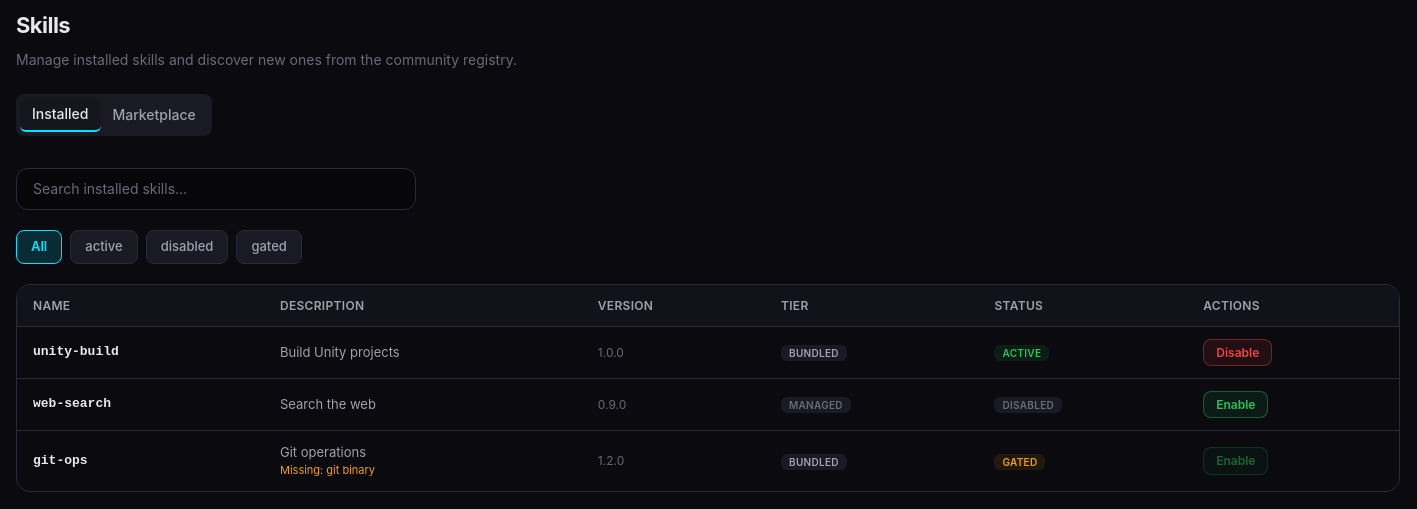
SkillsPage › filters skills by status pill
Click the button "active".
click(104, 247)  # box x1=70 y1=230 x2=138 y2=264
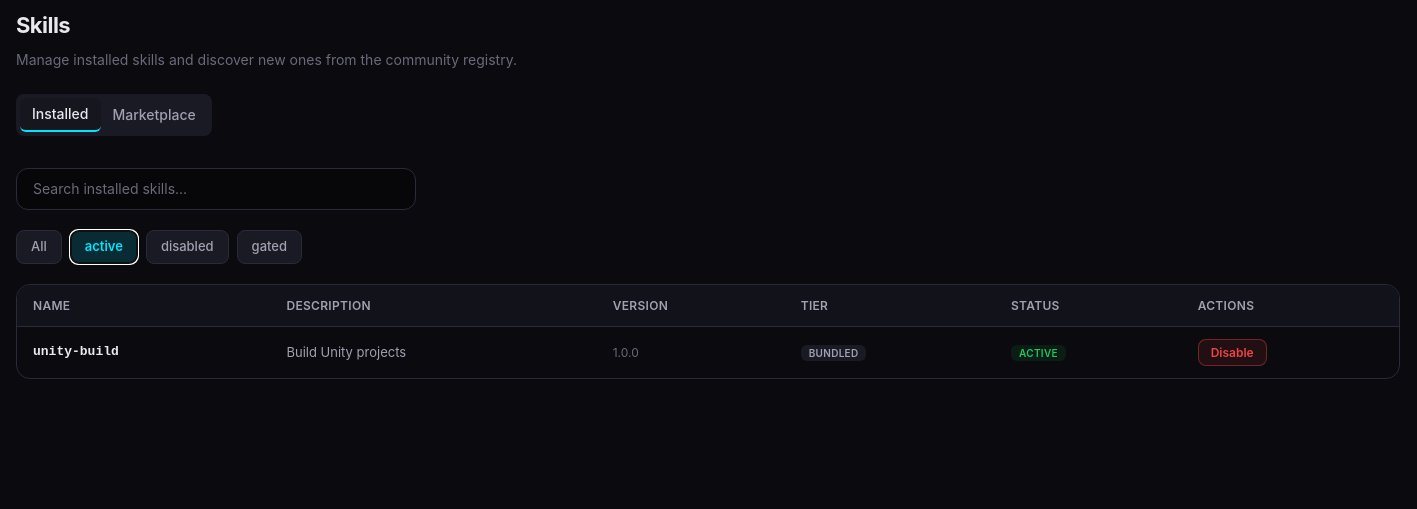
Expected: the text "unity-build" is shown, x1=17 y1=326 x2=270 y2=378
Expected: the text "web-search" is gone
Expected: the text "git-ops" is gone
